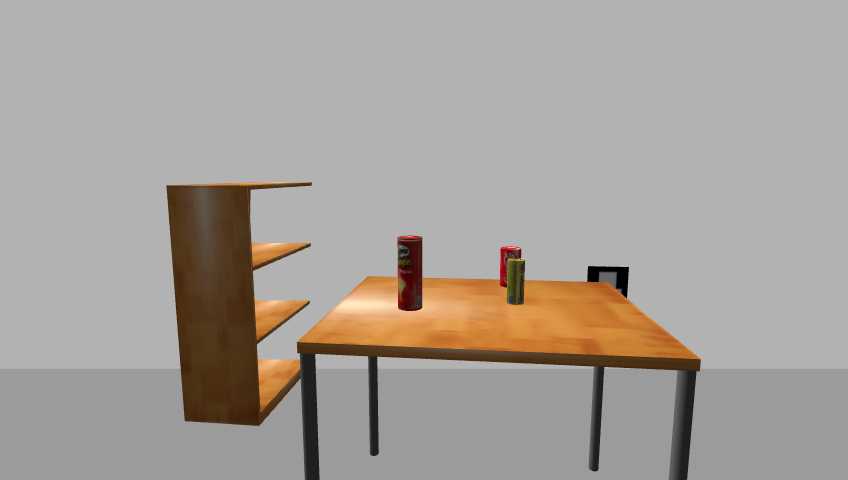aruco marker: (583, 265, 633, 302)
biscuits pack: (507, 259, 526, 306)
bookshelf: (162, 179, 319, 428)
coke can: (498, 246, 523, 289)
dinner table: (291, 275, 710, 479)
pringles can: (396, 235, 424, 313)
